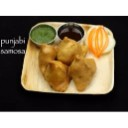samosa: (71, 55, 96, 91), (46, 60, 72, 91), (59, 38, 88, 62), (38, 43, 57, 72)
